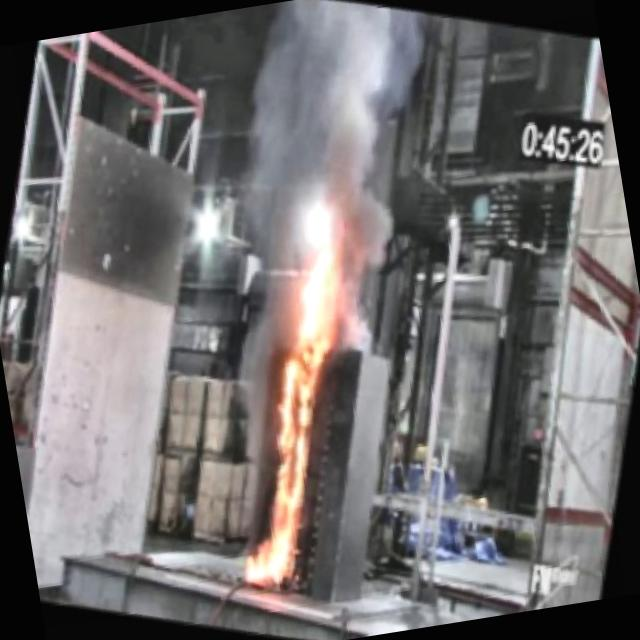fire: (203, 288, 376, 570)
smoke: (193, 0, 467, 327)
